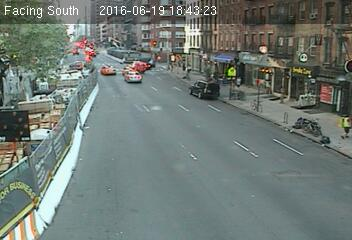neg: (297, 47, 311, 66), (166, 50, 178, 65), (147, 54, 157, 68), (150, 36, 158, 46)
pos: (333, 110, 351, 139), (182, 61, 193, 77), (234, 74, 244, 88)
